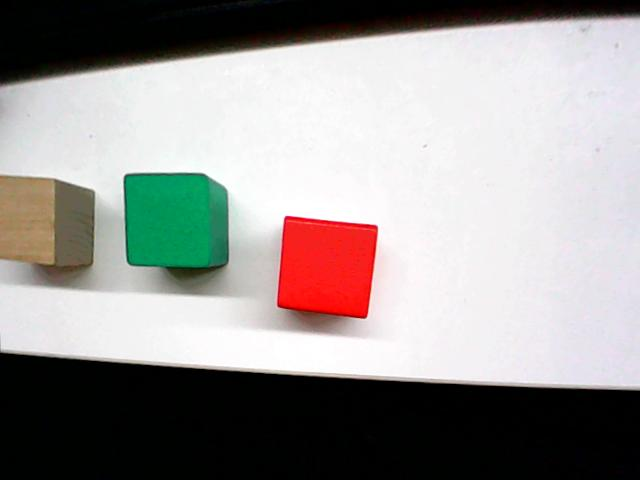green_box: (120, 168, 231, 272)
raw_box: (2, 170, 98, 276)
red_box: (273, 210, 381, 321)
